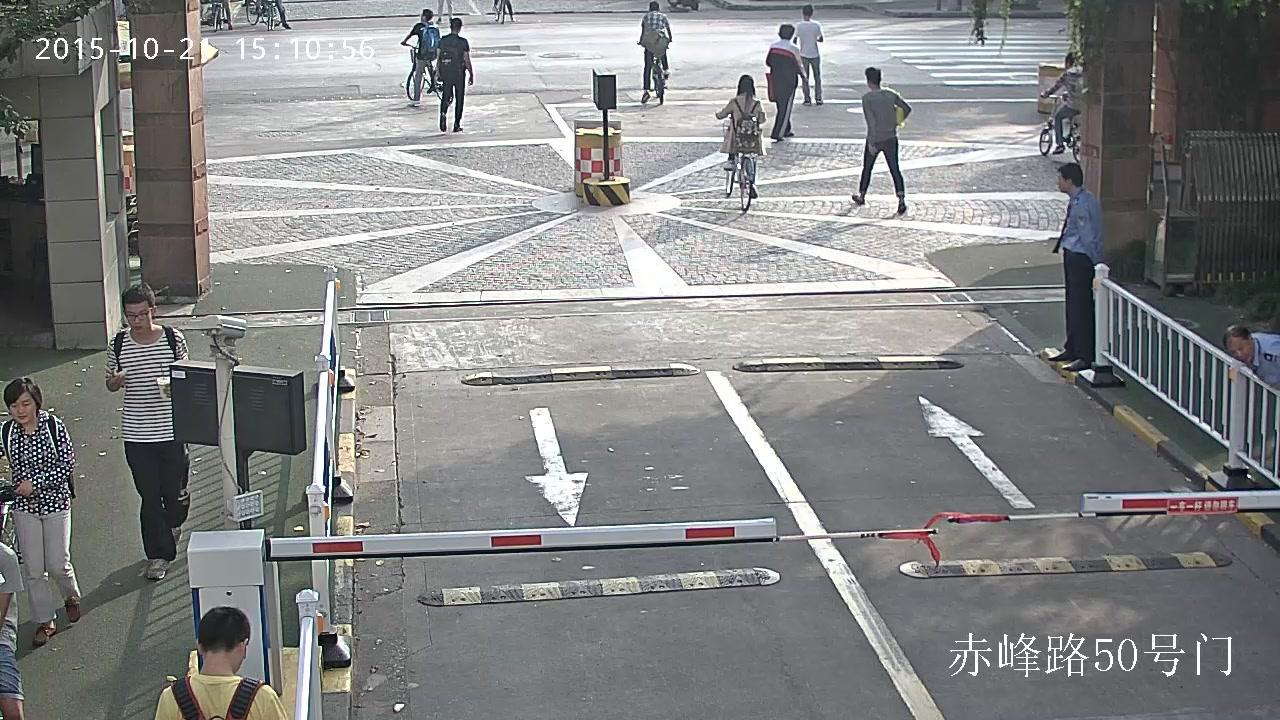face: (125, 300, 151, 334), (11, 391, 34, 422), (1227, 338, 1253, 361), (1057, 172, 1067, 191), (420, 11, 422, 21)
